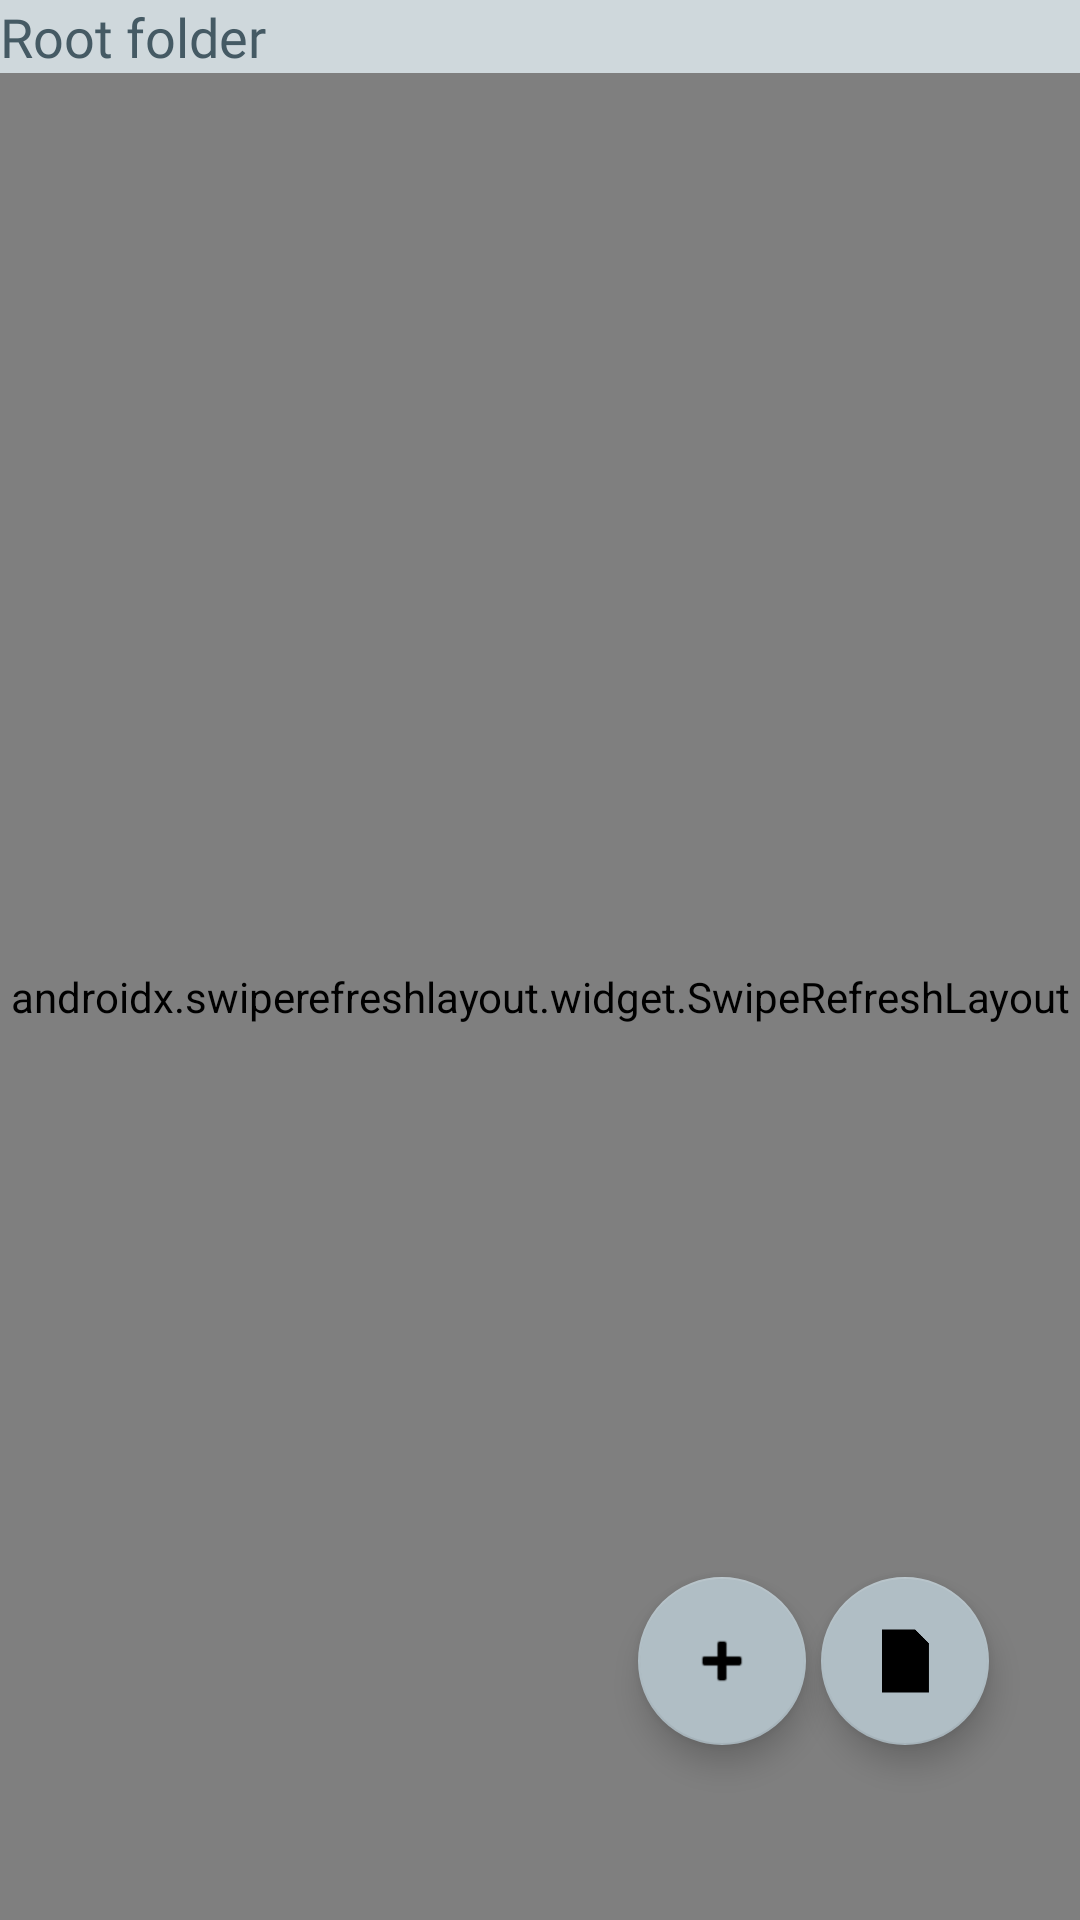

Icon bounding boxes for this 1080 x 1920 phone screenshot, format box=[x1, y1, x2, y2]:
add: box=[638, 1577, 806, 1745]
file: box=[821, 1577, 989, 1745]
